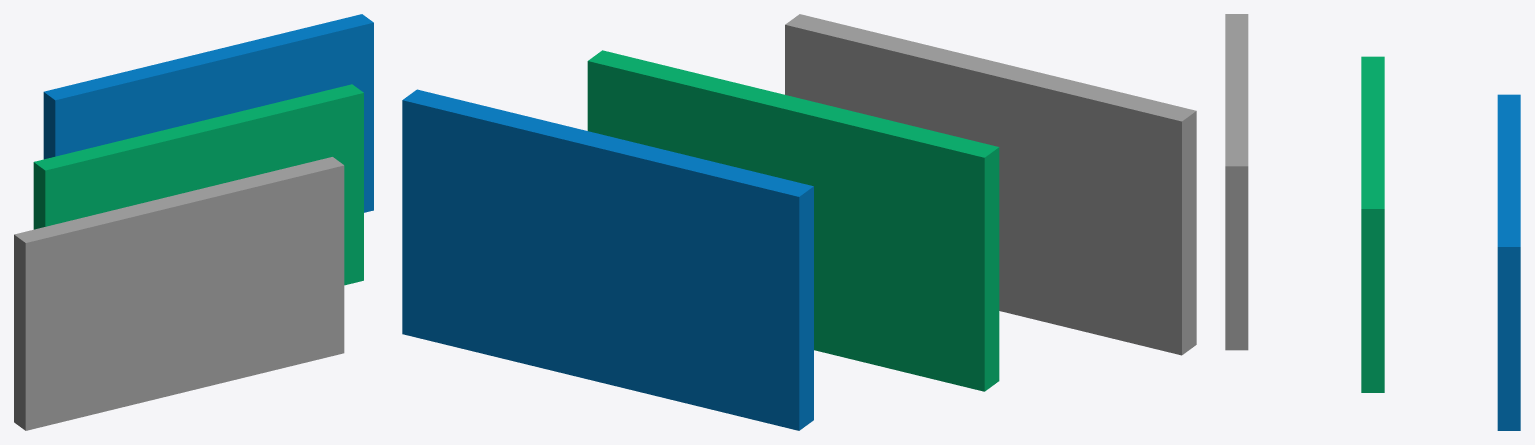
File: Rectangles.fbx
3 views of the same model, side by side, from view 1: azimuth 30°, elevation 25°; view 2: azimuth 150°, elevation 25°; view 3: azimuth 270°, elevation 25° (orthographic). The views are drawn at different scales.
Parts seen in each view (by area): view 1: pCube18, pCube19, pCube20; view 2: pCube20, pCube18, pCube19; view 3: pCube19, pCube18, pCube20.
Boxes of the visible parts, x1,y1,x2,y2 form: pCube18: (14, 157, 344, 430); pCube19: (33, 84, 363, 285); pCube20: (43, 14, 373, 212); pCube20: (402, 89, 813, 430); pCube18: (785, 14, 1196, 355); pCube19: (587, 50, 999, 391); pCube19: (1361, 56, 1384, 392); pCube18: (1225, 14, 1248, 350); pCube20: (1497, 94, 1520, 430).
Bounding box in the file's own units: 20.24 × 7.46 × 10.85.
